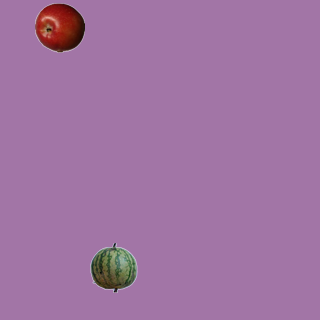Apple Braeburn: (34, 2, 84, 52)
Watermelon: (88, 242, 138, 292)
